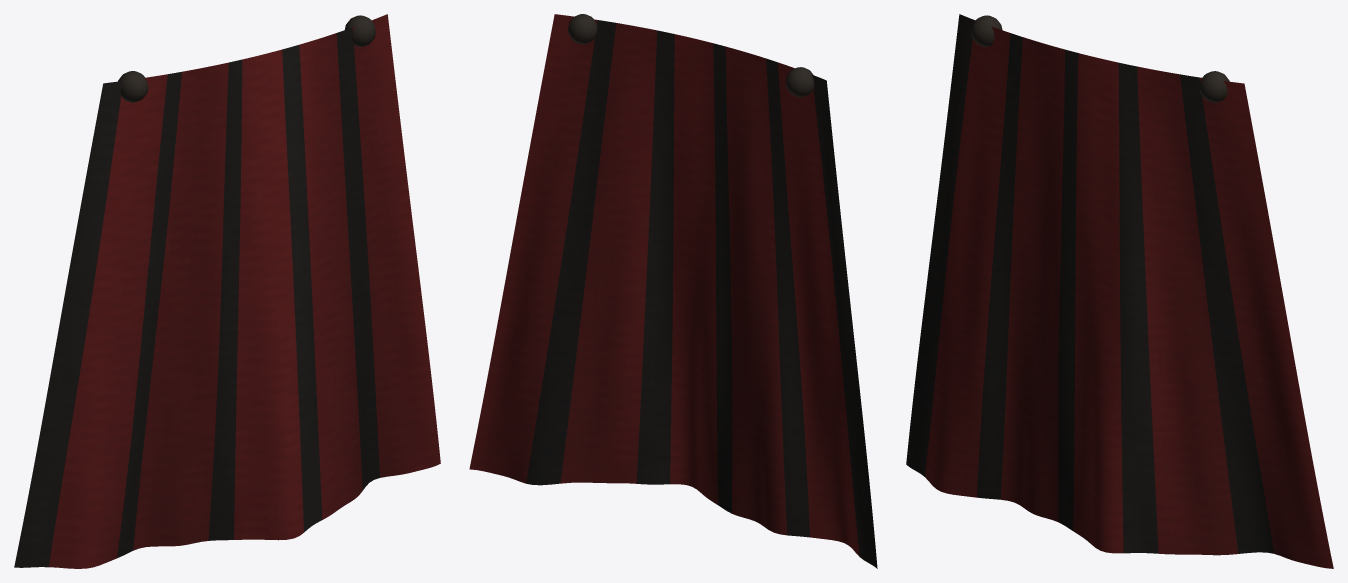
Rendered from cape_stripe.glb.
The picture shows the model from 3 angles, left to right: view 1: azimuth 30°, elevation 25°; view 2: azimuth 150°, elevation 25°; view 3: azimuth 330°, elevation 25°; orthographic projection. The views are drawn at different scales.
Parts seen in each view (by area): view 1: Cape, Sphere, Sphere.001; view 2: Cape, Sphere.001, Sphere; view 3: Cape, Sphere.001, Sphere.
Boxes of the visible parts, <box> form: Cape: <box>14,14,440,568</box>; Sphere: <box>118,71,148,102</box>; Sphere.001: <box>345,15,375,47</box>; Cape: <box>469,14,877,568</box>; Sphere.001: <box>568,14,597,44</box>; Sphere: <box>785,67,814,97</box>; Cape: <box>906,14,1333,568</box>; Sphere.001: <box>1199,71,1229,102</box>; Sphere: <box>971,15,1002,47</box>.
Bounding box in the file's own units: 0.93 × 1.01 × 0.153.
